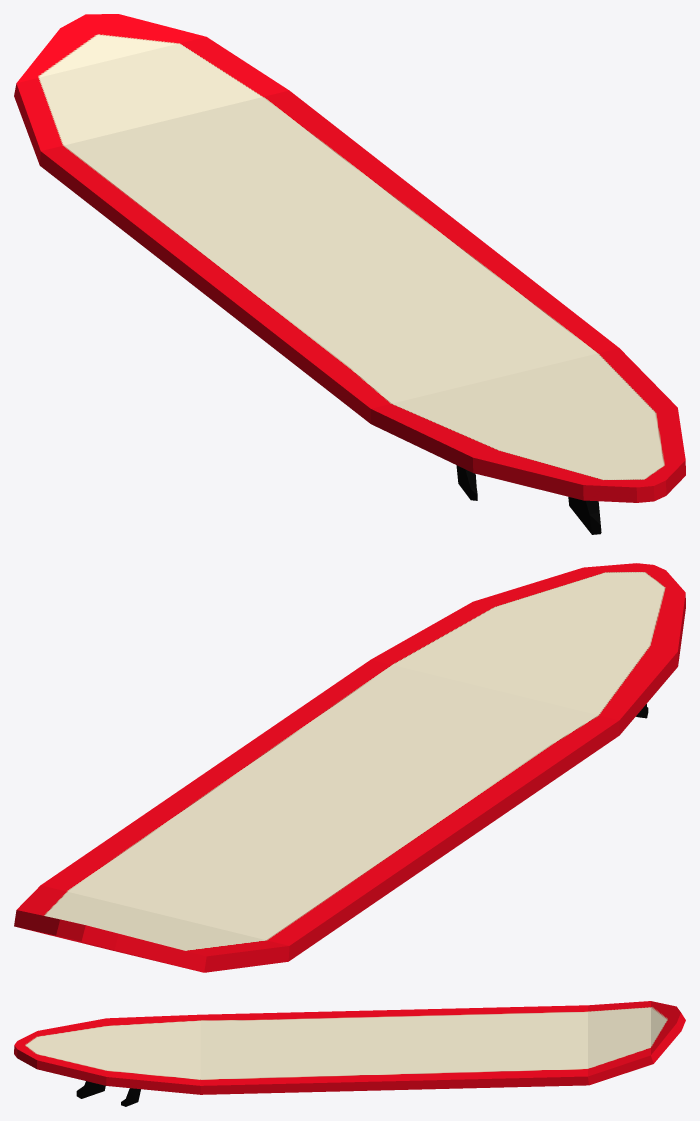
The model's file is Surfboard.glb.
3 views of the same model, one above another, from view 1: azimuth 30°, elevation 25°; view 2: azimuth 150°, elevation 25°; view 3: azimuth 270°, elevation 25° (orthographic). The views are drawn at different scales.
Parts seen in each view (by area): view 1: Plane; view 2: Plane; view 3: Plane.
Boxes of the visible parts, x1,y1,x2,y2 form: Plane: [14, 14, 685, 534]; Plane: [14, 563, 685, 972]; Plane: [14, 1001, 685, 1106].
Bounding box in the file's own units: 0.5036 × 0.2813 × 2.01.
1 material, 1 textured.
